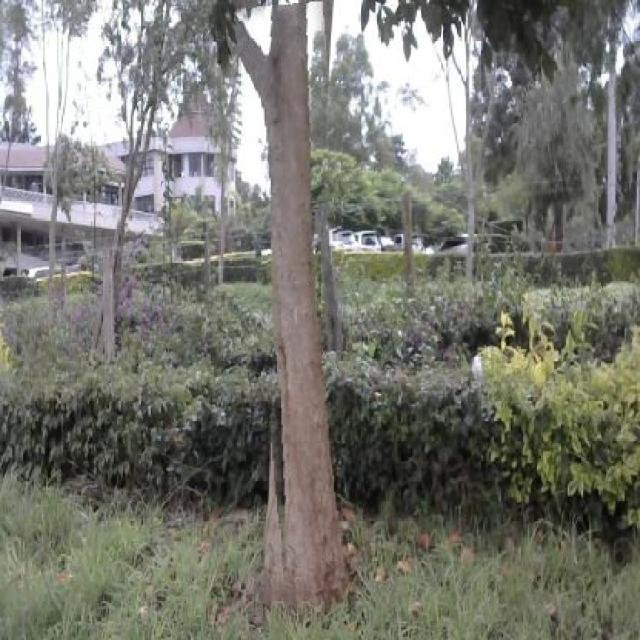tree trunk: (247, 3, 362, 615)
